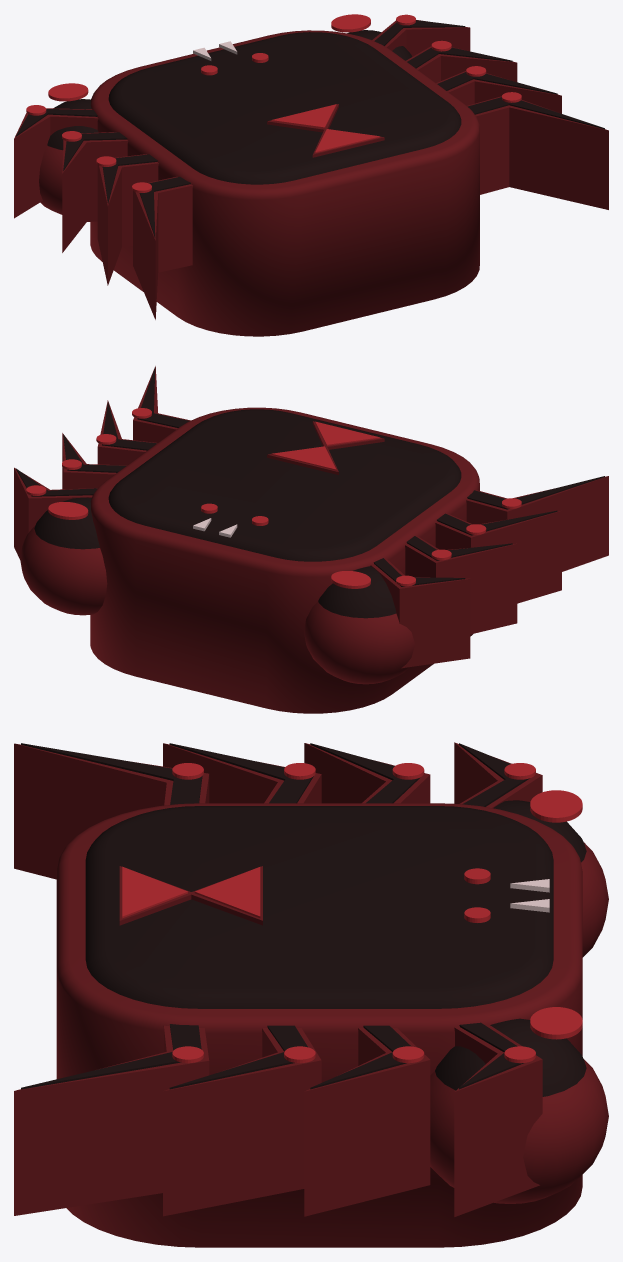
Rendered from body_aranha.fbx.
3 renders of one model, top to bottom at view 1: azimuth 30°, elevation 25°; view 2: azimuth 150°, elevation 25°; view 3: azimuth 270°, elevation 25°, orthographic. The views are drawn at different scales.
Visible parts, largest first — view 1: body_aranha_corpo, body_aranha_mao_esq, body_aranha_mao; view 2: body_aranha_corpo, body_aranha_mao_esq, body_aranha_mao; view 3: body_aranha_corpo, body_aranha_mao, body_aranha_mao_esq.
Part boxes in pixels (box(x1,y1,x2,y2)): body_aranha_corpo: box(14, 14, 608, 336); body_aranha_mao_esq: box(39, 83, 98, 214); body_aranha_mao: box(331, 14, 412, 60); body_aranha_corpo: box(14, 366, 608, 713); body_aranha_mao_esq: box(304, 566, 414, 684); body_aranha_mao: box(20, 497, 107, 615); body_aranha_corpo: box(14, 742, 582, 1247); body_aranha_mao: box(430, 1007, 608, 1203); body_aranha_mao_esq: box(493, 790, 608, 957).
Bounding box in the file's own units: 6.3 × 2.06 × 4.52.
Materials: 1 (1 with a texture image).
